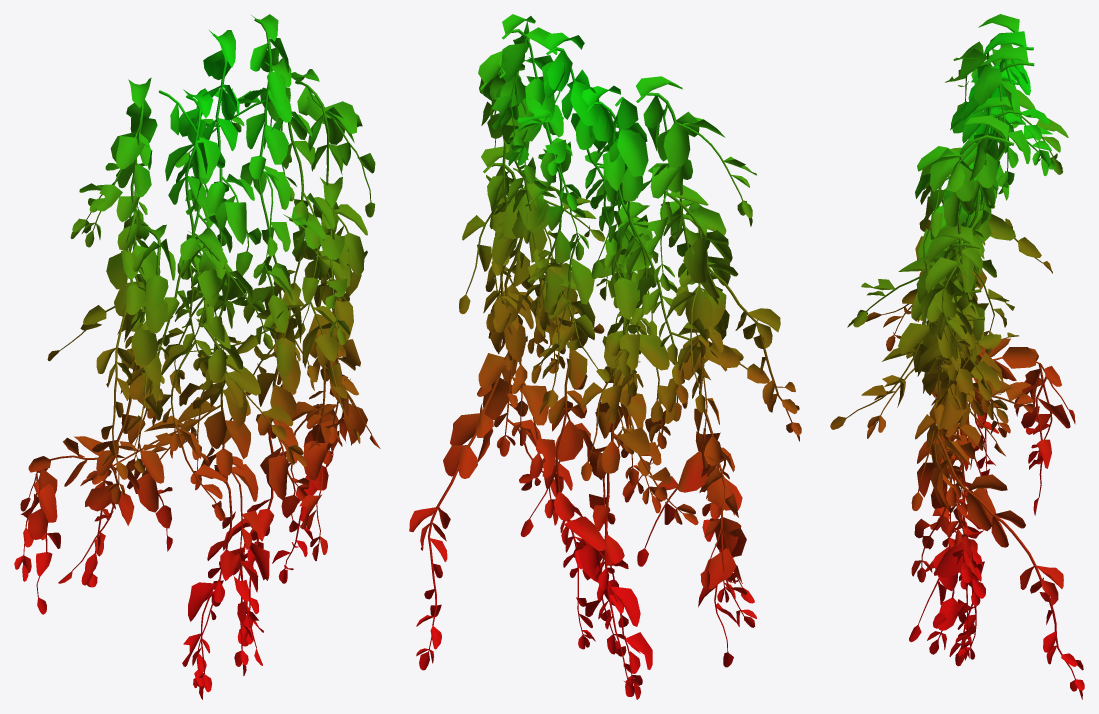
Rendered from Var5_LOD1.fbx.
3 renders of one model, left to right at view 1: azimuth 30°, elevation 25°; view 2: azimuth 150°, elevation 25°; view 3: azimuth 270°, elevation 25°, orthographic. The views are drawn at different scales.
Visible parts, largest first — view 1: _wwsz_Var5_LOD1; view 2: _wwsz_Var5_LOD1; view 3: _wwsz_Var5_LOD1.
Boxes of the visible parts, x1,y1,x2,y2 form: _wwsz_Var5_LOD1: (14,14,380,699); _wwsz_Var5_LOD1: (409,14,801,699); _wwsz_Var5_LOD1: (830,14,1084,699).
Bounding box in the file's own units: 65.34 × 126 × 44.22.
